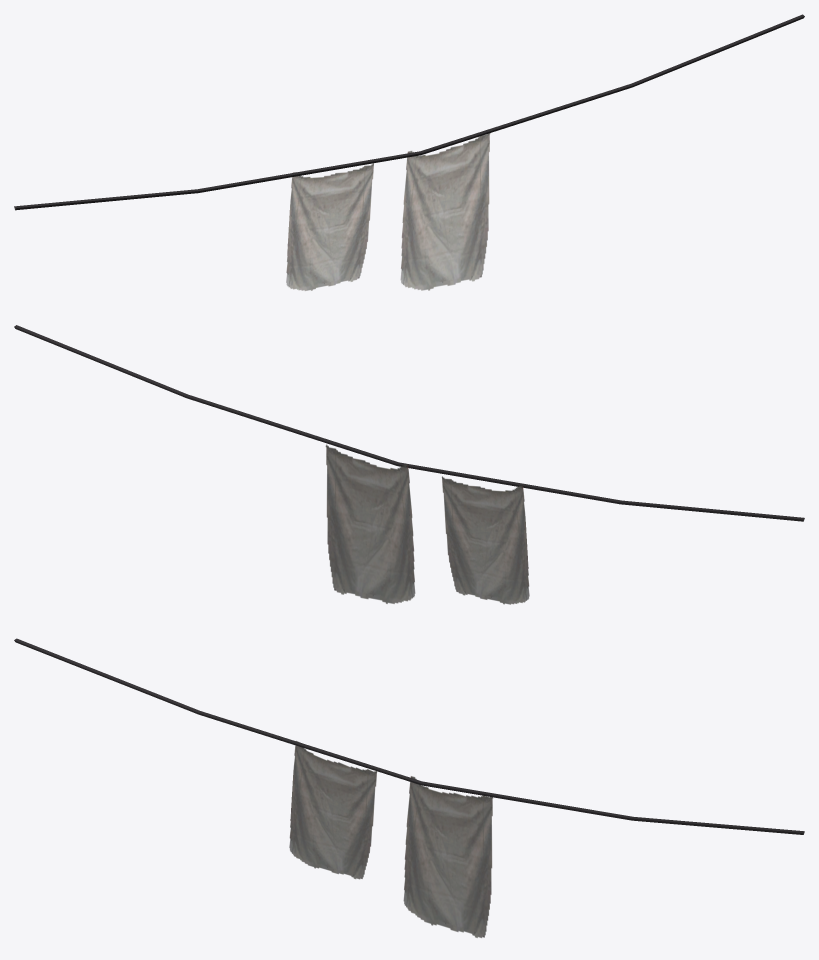
The model's file is Lndry01.glb.
The picture shows the model from 3 angles, top to bottom: view 1: azimuth 30°, elevation 25°; view 2: azimuth 150°, elevation 25°; view 3: azimuth 330°, elevation 25°; orthographic projection.
Visible parts, largest first — view 1: _Lndry01; view 2: _Lndry01; view 3: _Lndry01.
Boxes of the visible parts, <box> form: _Lndry01: <box>14,14,804,290</box>; _Lndry01: <box>14,325,804,604</box>; _Lndry01: <box>14,638,804,937</box>.
Size of the model in its own units: 7.77 by 1.8 by 0.0535.
Materials: 2 (2 with a texture image).
